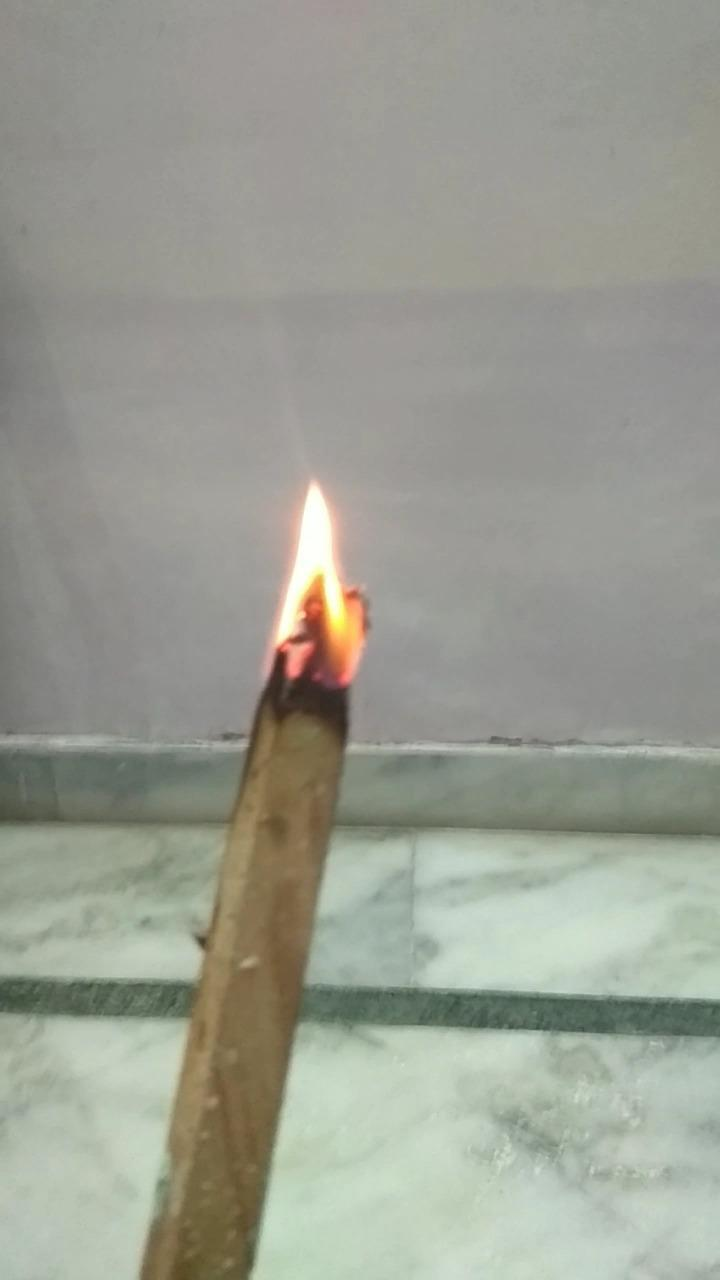fire: (249, 467, 386, 698)
